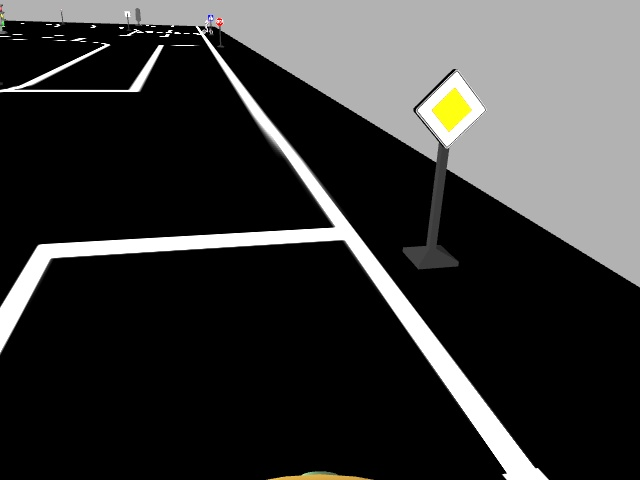Priority: (412, 69, 485, 147)
